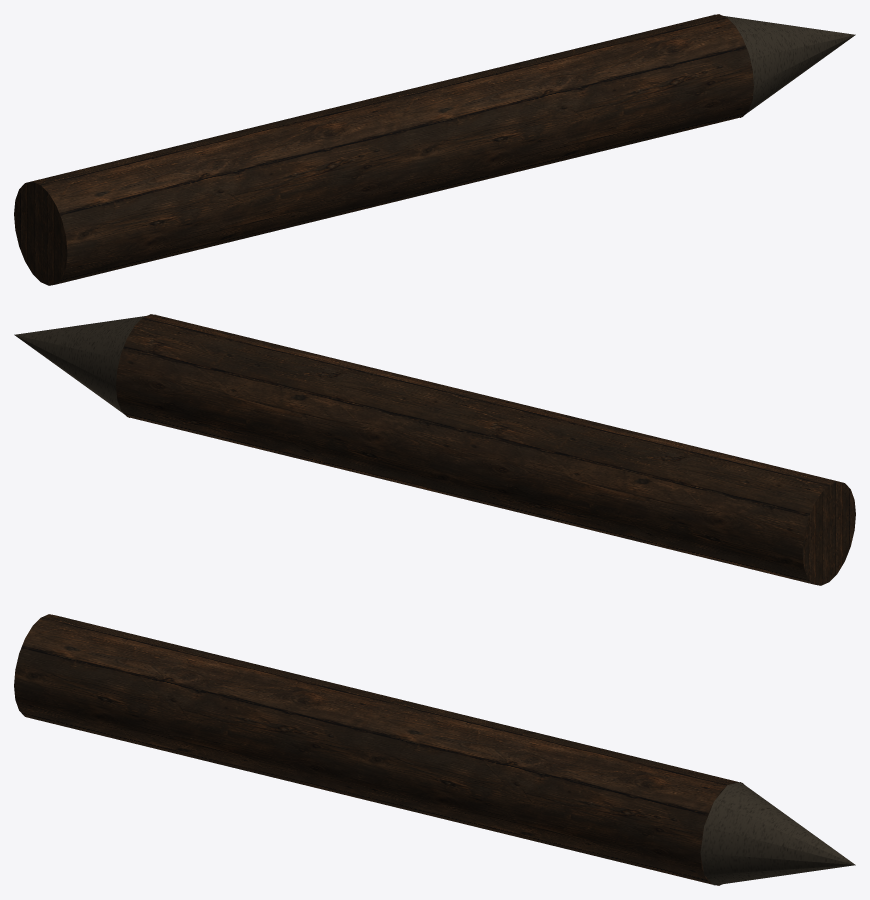
3 views of the same model, one above another, from view 1: azimuth 30°, elevation 25°; view 2: azimuth 150°, elevation 25°; view 3: azimuth 330°, elevation 25° (orthographic).
Parts seen in each view (by area): view 1: a-pen; view 2: a-pen; view 3: a-pen.
Part boxes in pixels (x1,y1,x2,y2): a-pen: (14, 14, 855, 285); a-pen: (14, 314, 855, 585); a-pen: (14, 614, 855, 885).
Size of the model in its own units: 0.22 by 0.025 by 0.025.
2 materials, 2 textured.
